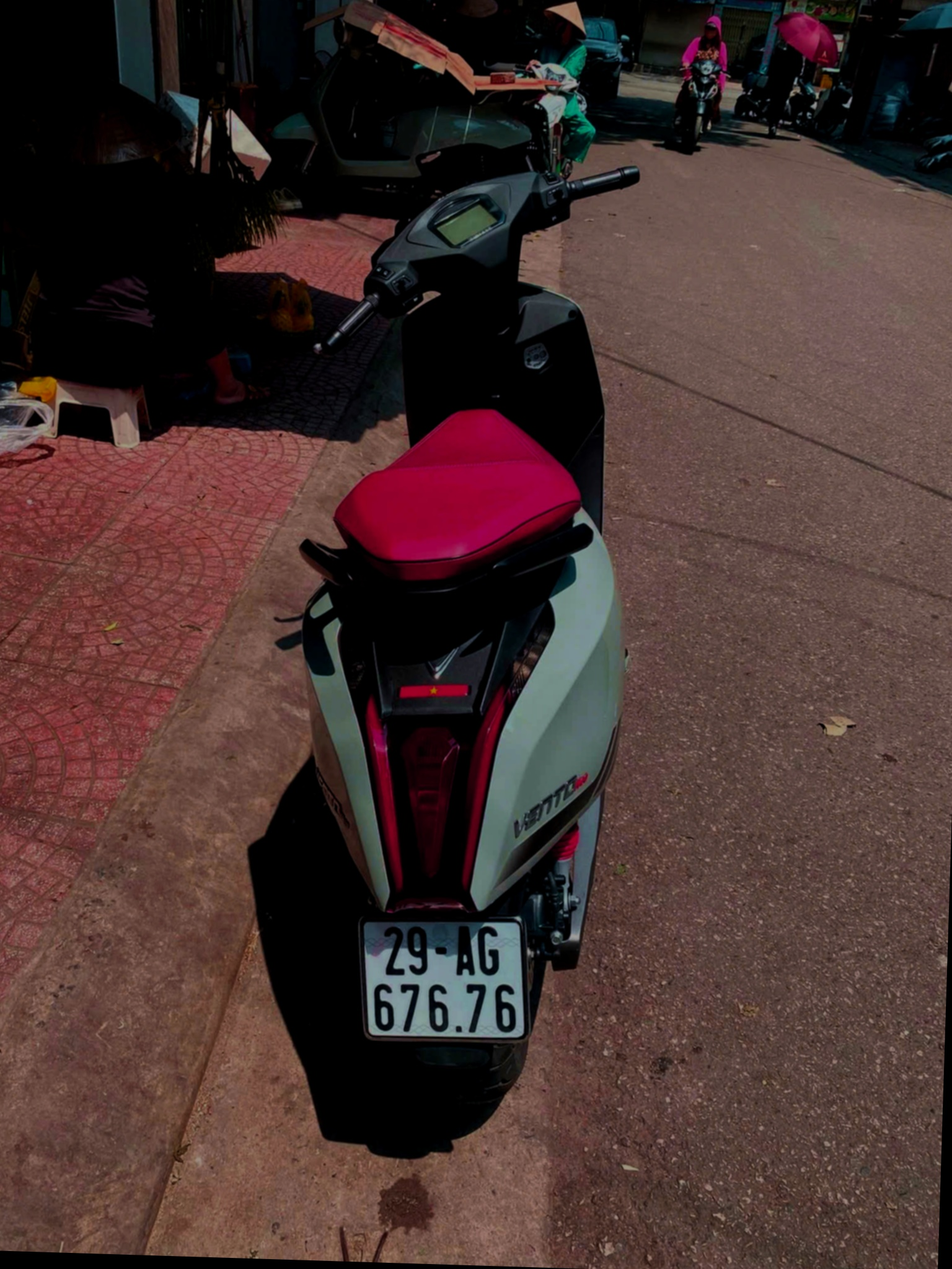Bien-so: (315, 967, 508, 1104)
